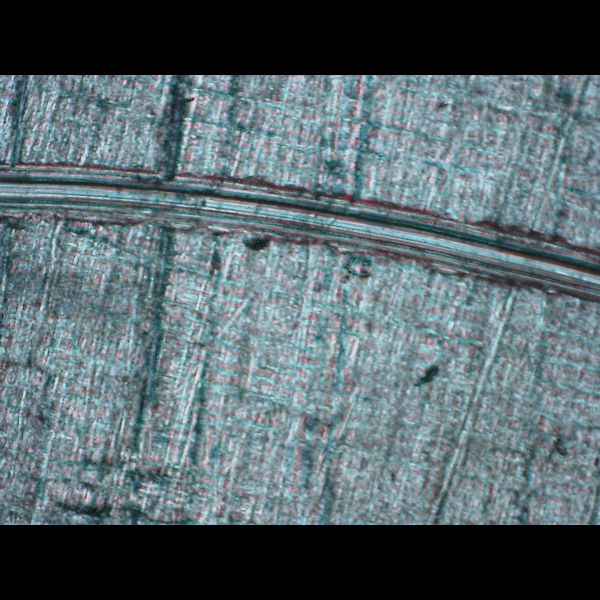d: (0, 156, 599, 311)
